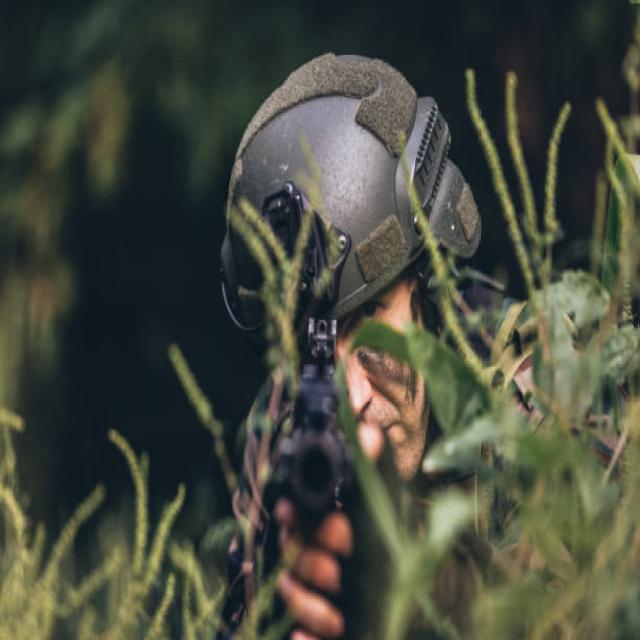soldier: (193, 45, 542, 640)
